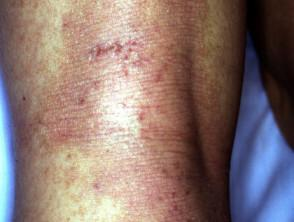Eczema: (92, 41, 144, 62)
